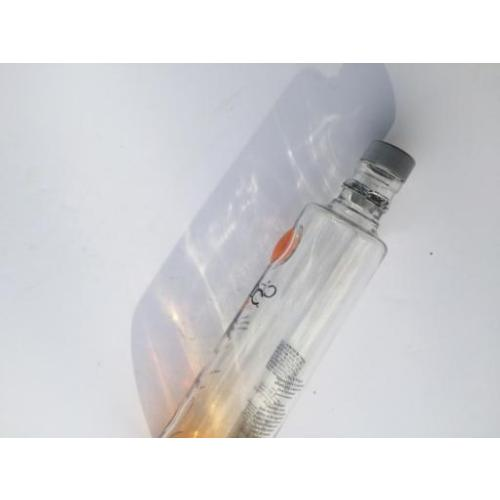glass: (170, 143, 410, 439)
